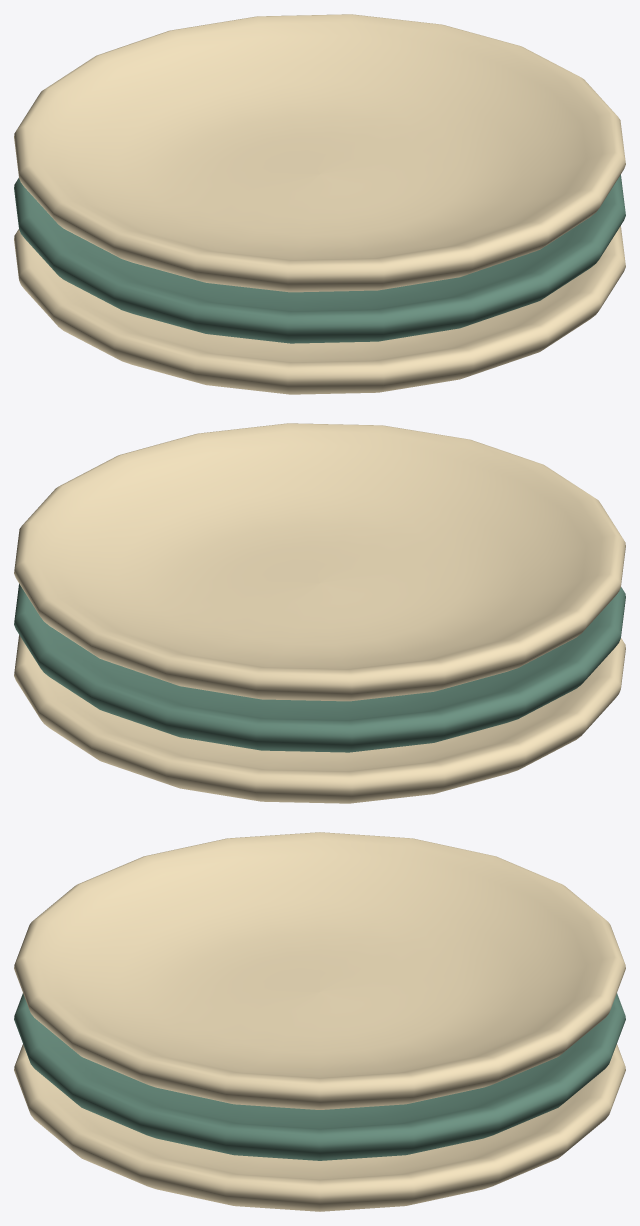
Rendered from plate-stack-426-light.glb.
The picture shows the model from 3 angles, top to bottom: view 1: azimuth 30°, elevation 25°; view 2: azimuth 150°, elevation 25°; view 3: azimuth 270°, elevation 25°; orthographic projection.
Visible parts, largest first — view 1: cream, sage; view 2: cream, sage; view 3: cream, sage.
Boxes of the visible parts, x1=… form: cream: x1=14, y1=14, x2=625, y2=394; sage: x1=14, y1=174, x2=625, y2=343; cream: x1=14, y1=423, x2=625, y2=803; sage: x1=14, y1=583, x2=625, y2=752; cream: x1=14, y1=832, x2=625, y2=1211; sage: x1=14, y1=993, x2=625, y2=1160.
Size of the model in its own units: 2.4 by 0.7047 by 2.4.
